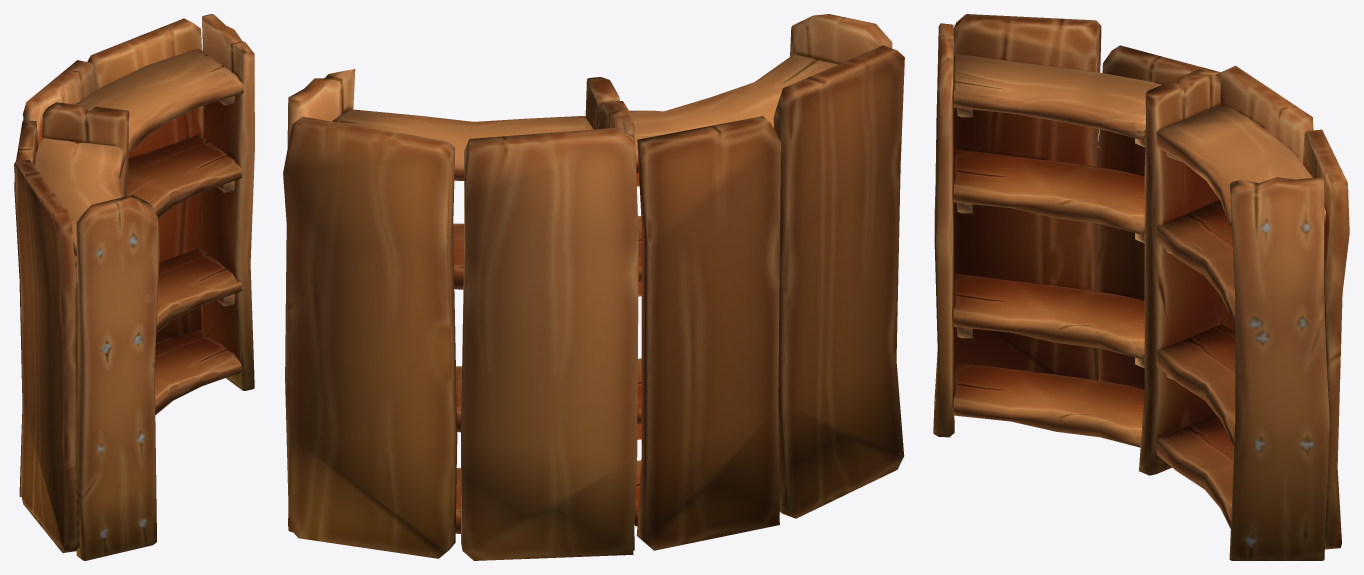
Rendered from WoodenRack.fbx.
3 views of the same model, side by side, from view 1: azimuth 30°, elevation 25°; view 2: azimuth 150°, elevation 25°; view 3: azimuth 270°, elevation 25° (orthographic). The views are drawn at different scales.
Parts seen in each view (by area): view 1: U_WoodenRack; view 2: U_WoodenRack; view 3: U_WoodenRack.
Part boxes in pixels (left/top/right/bottom): U_WoodenRack: left=14, top=14, right=254, bottom=560; U_WoodenRack: left=283, top=14, right=904, bottom=560; U_WoodenRack: left=933, top=14, right=1349, bottom=560.
Bounding box in the file's own units: 294 × 298 × 296.
Materials: 1 (1 with a texture image).
